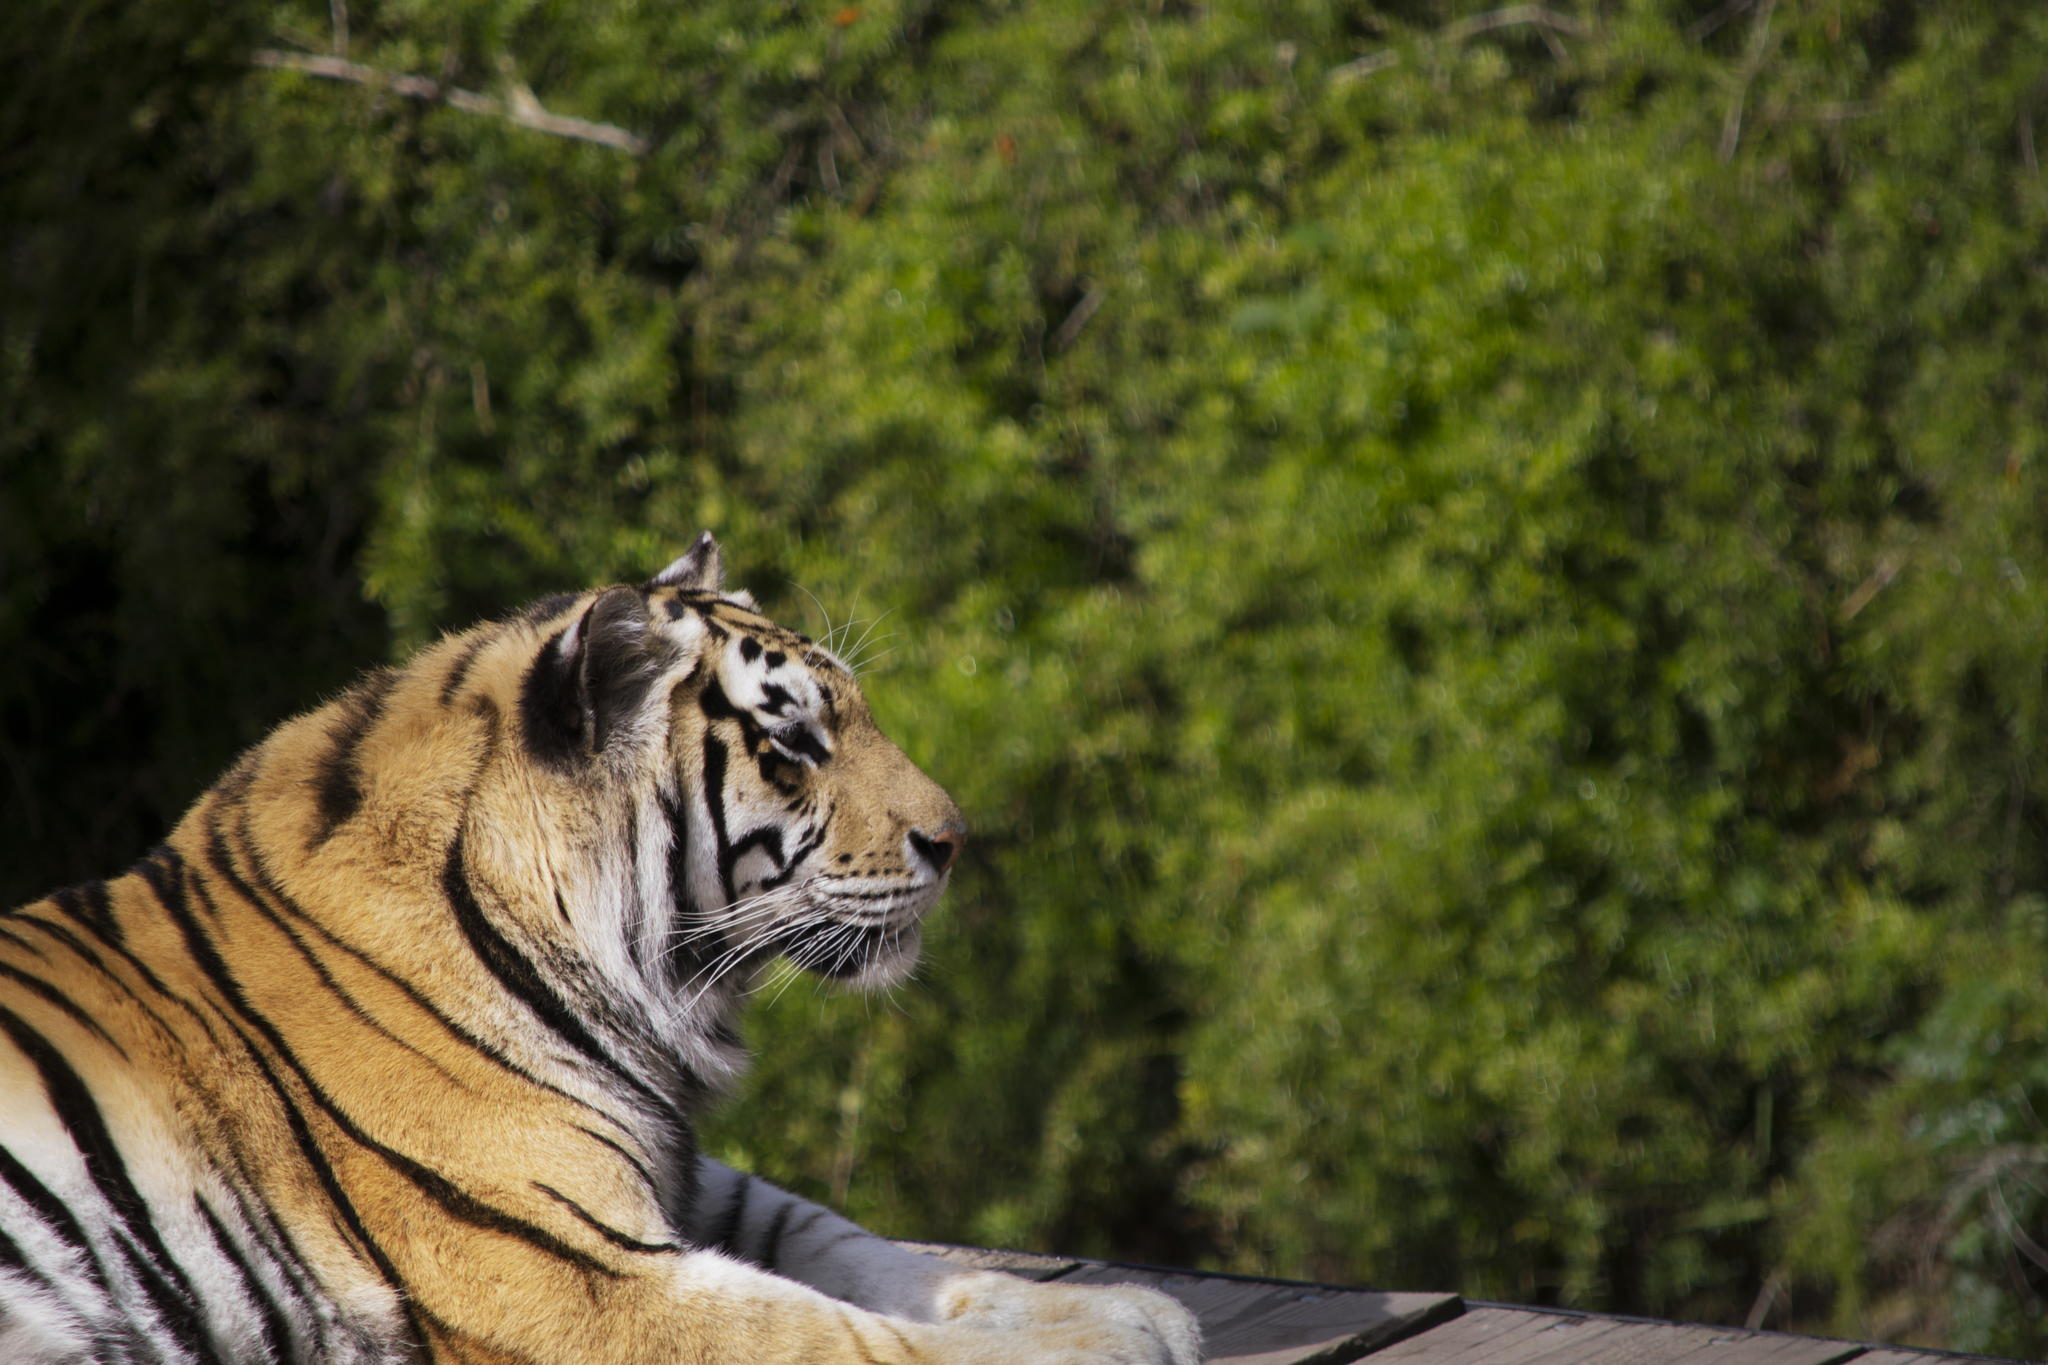tiger: (126, 585, 1188, 1365)
